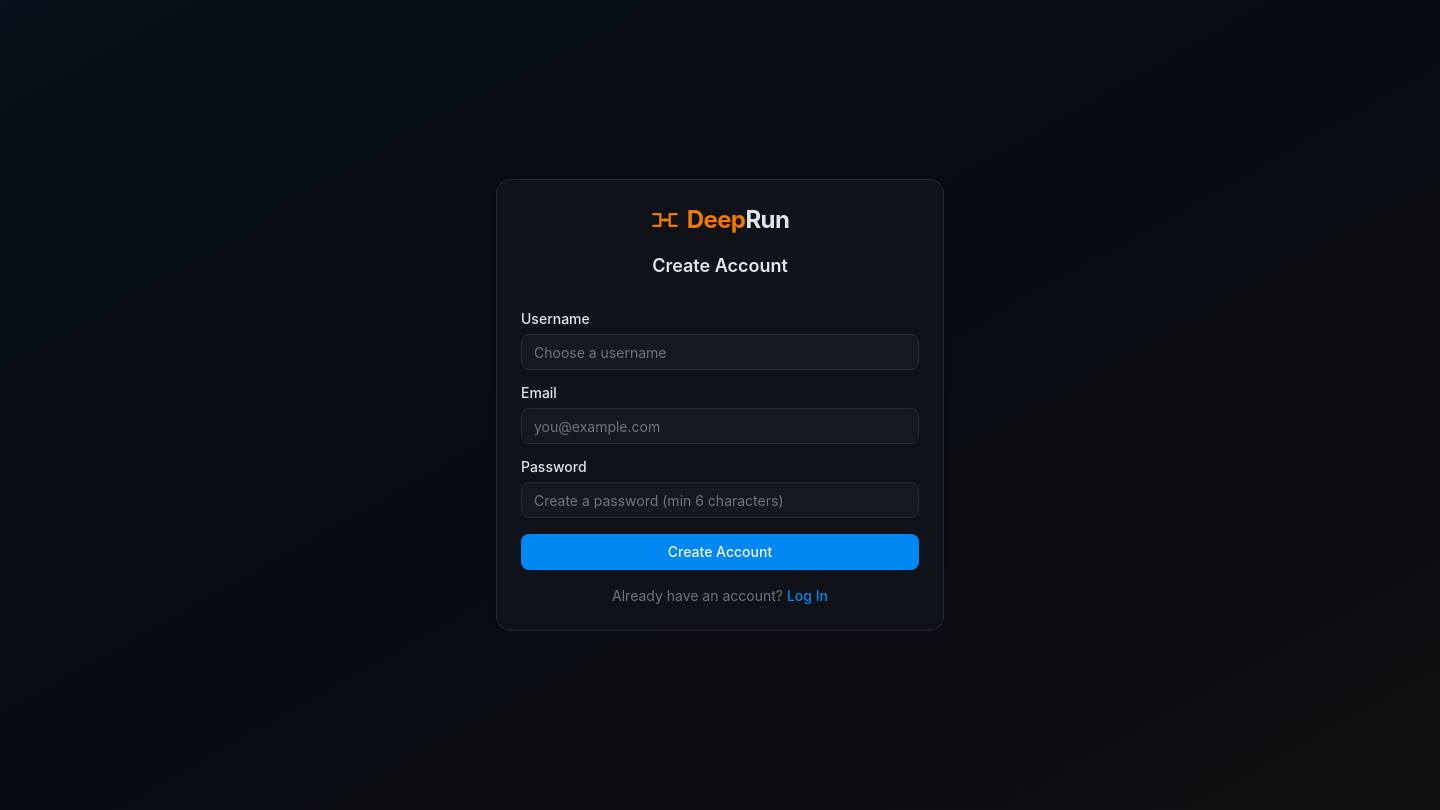
it: Register page › shows an error when fields are missing (client-side validation)
This screenshot has width=1440, height=810.
Note: Submit without filling in any fields
Click the button "Create Account": (720, 552) [521,534,919,570]
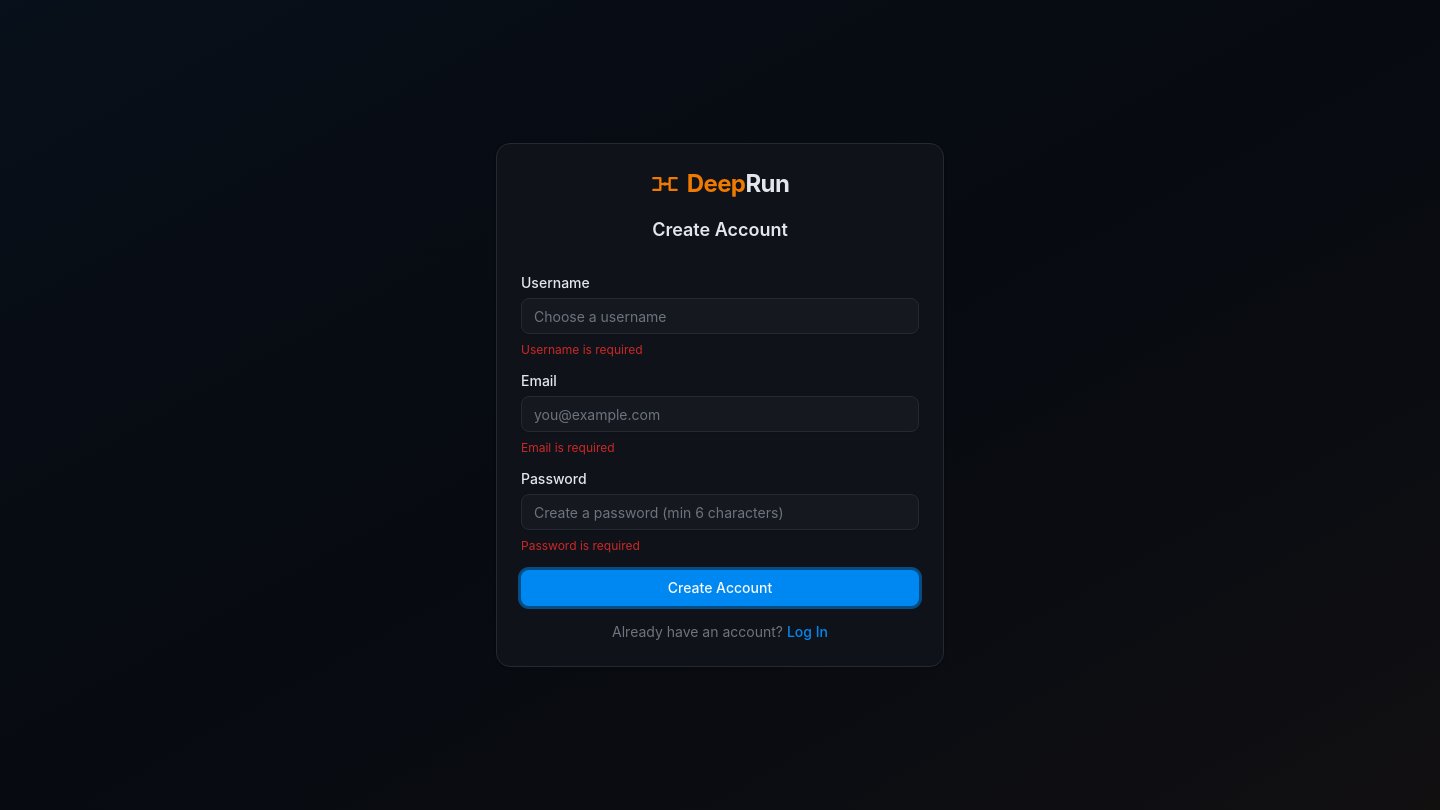
Expected: the text "Username is required" is shown, [521,342,643,357]
